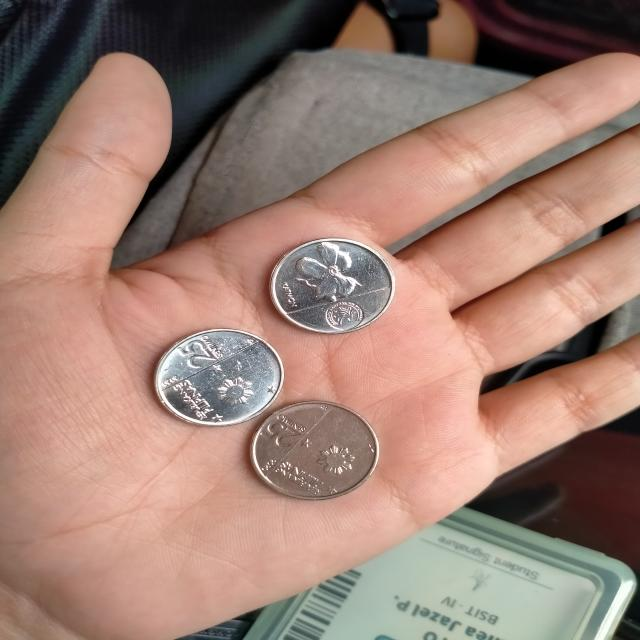25Cent_New_Back: (290, 244, 360, 302)
25Cent_New_Front: (173, 334, 230, 368), (264, 415, 309, 450)
